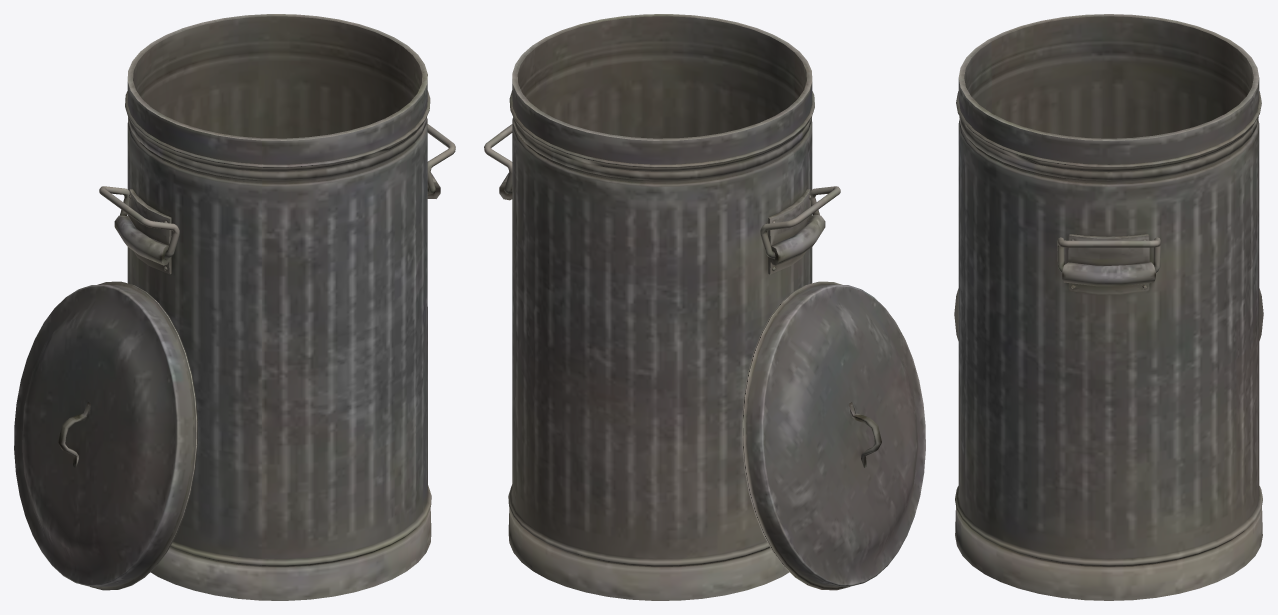
File: prop-metal-trash-can.glb
3 renders of one model, left to right at view 1: azimuth 30°, elevation 25°; view 2: azimuth 150°, elevation 25°; view 3: azimuth 270°, elevation 25°, orthographic.
Visible parts, largest first — view 1: metal_trash_can_handle_left; view 2: metal_trash_can_handle_left; view 3: metal_trash_can_handle_left.
Boxes of the visible parts, x1=… form: metal_trash_can_handle_left: x1=14, y1=14, x2=455, y2=600; metal_trash_can_handle_left: x1=484, y1=14, x2=925, y2=600; metal_trash_can_handle_left: x1=954, y1=14, x2=1263, y2=600.
Size of the model in its own units: 0.778 by 0.9062 by 0.5543.
1 material, 1 textured.
